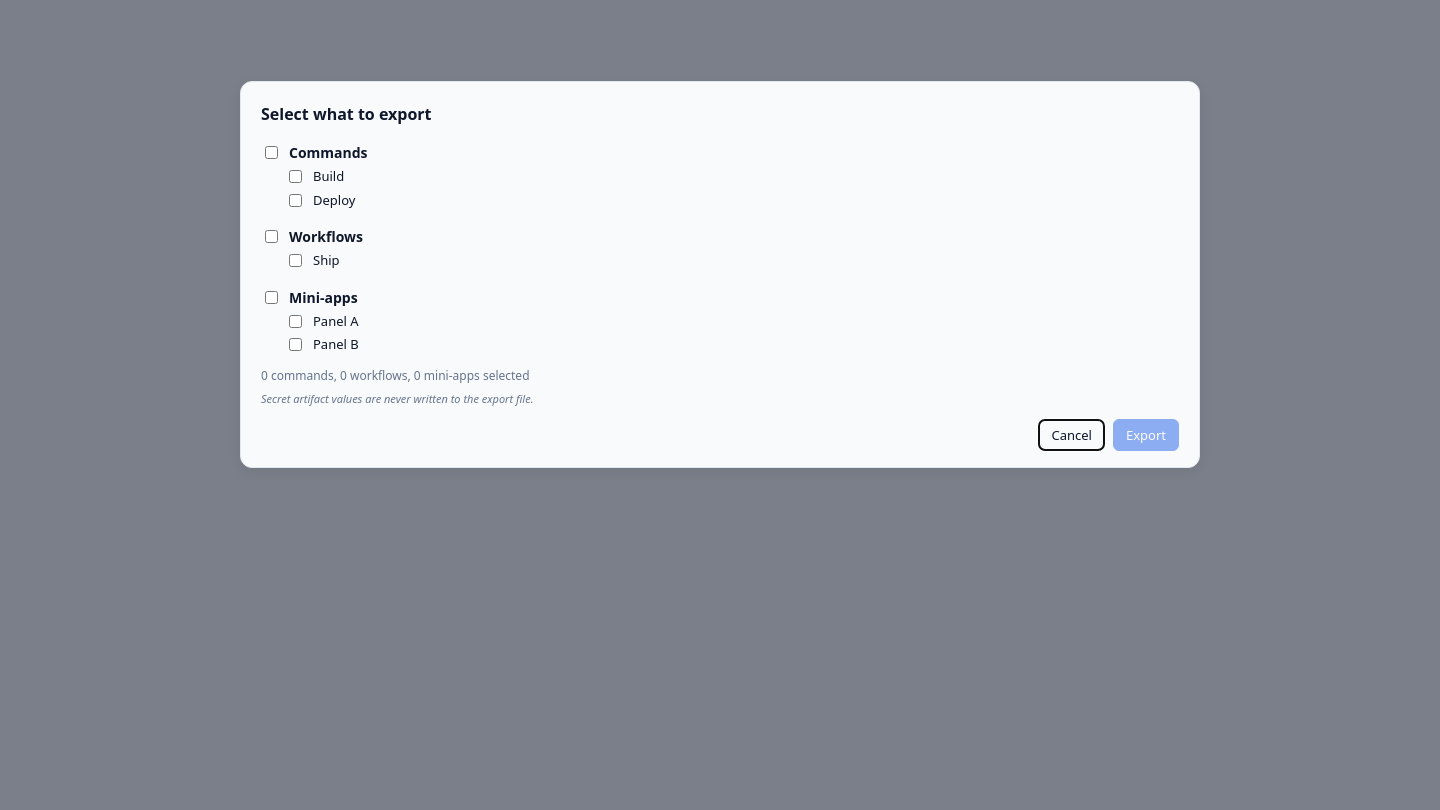
Test: ExportDialog › force-includes (and locks) the command a selected mini-app references
Note: "Panel A" references c2 ("Deploy") — the file would be broken without it.
Click the checkbox labelled "Panel A".
click(296, 321)  # box [289,315,302,328]
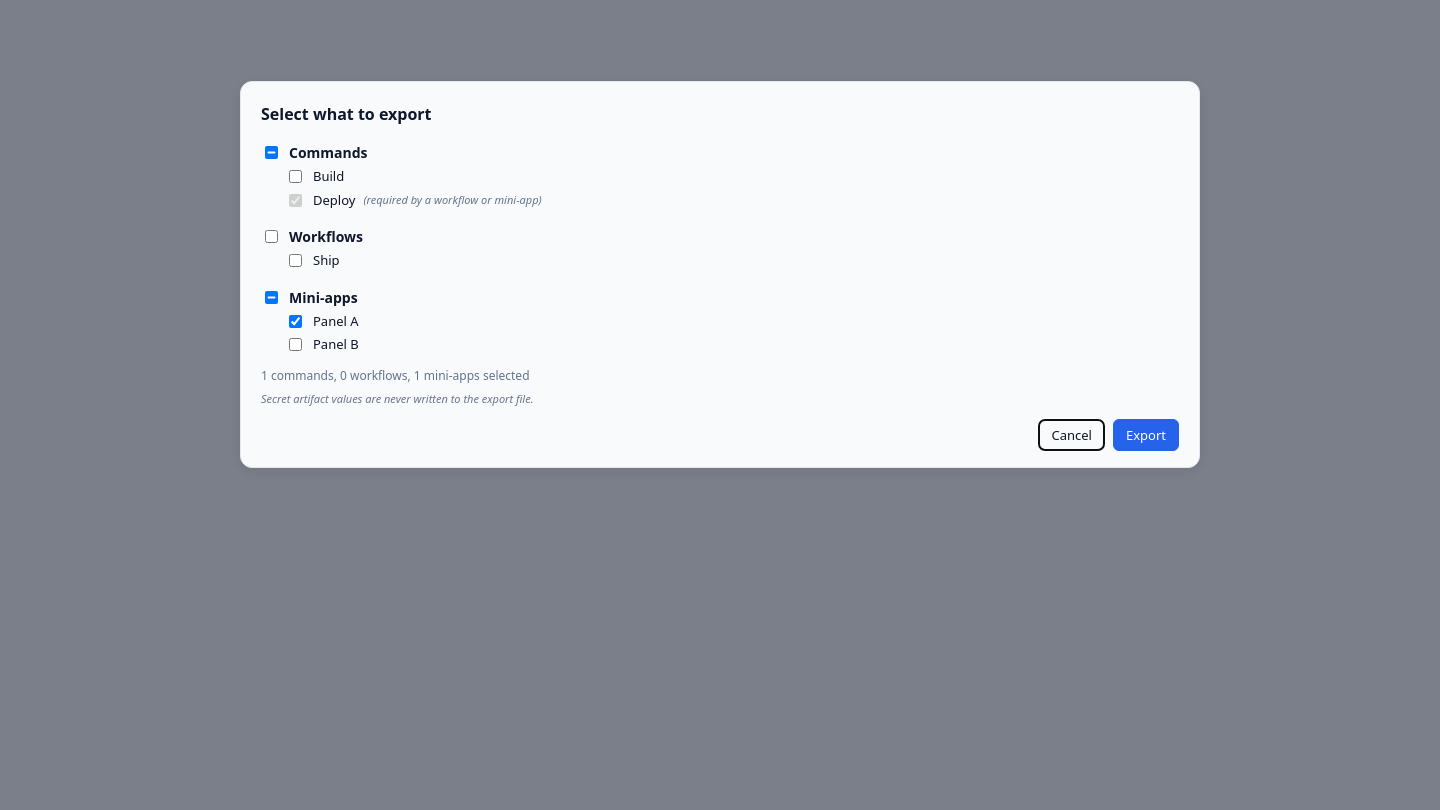
Expected: the checkbox labelled "Build" is not checked, [289,170,302,183]
Now the checkbox labelled "Deploy (required by a workflow or mini-app)" is checked, box [289,194,302,207]
Now the checkbox labelled "Deploy (required by a workflow or mini-app)" is disabled, box [289,194,302,207]
